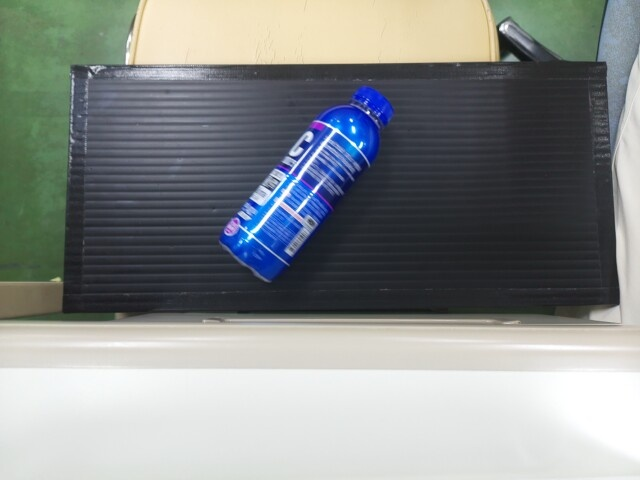plastic_bottle: (217, 89, 392, 279)
